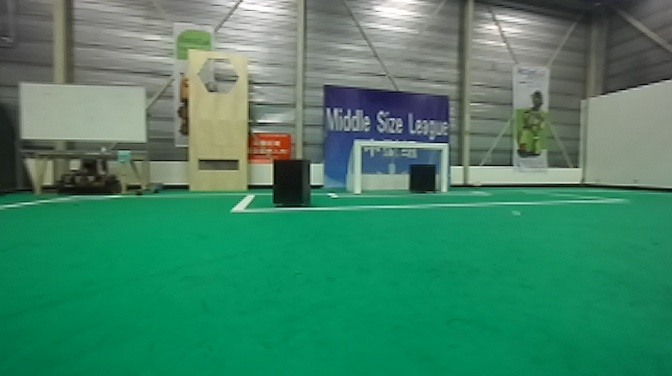goalpost: (439, 143, 451, 194), (354, 138, 364, 190)
